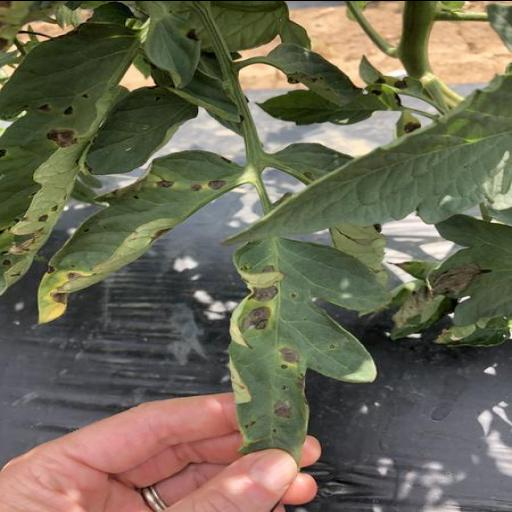Early Blight: (222, 234, 388, 460), (34, 148, 238, 322)
